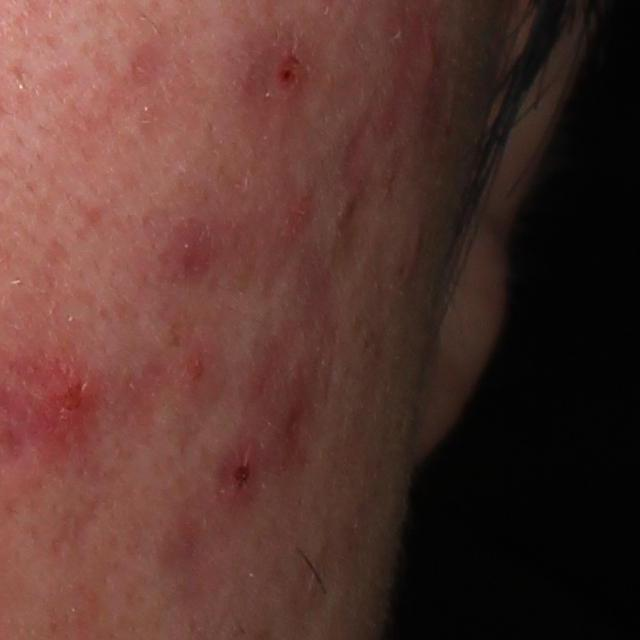papule: (26, 363, 108, 460), (214, 438, 265, 508), (158, 218, 211, 284), (182, 346, 230, 401), (413, 30, 453, 96), (278, 191, 319, 244), (272, 47, 308, 98)
